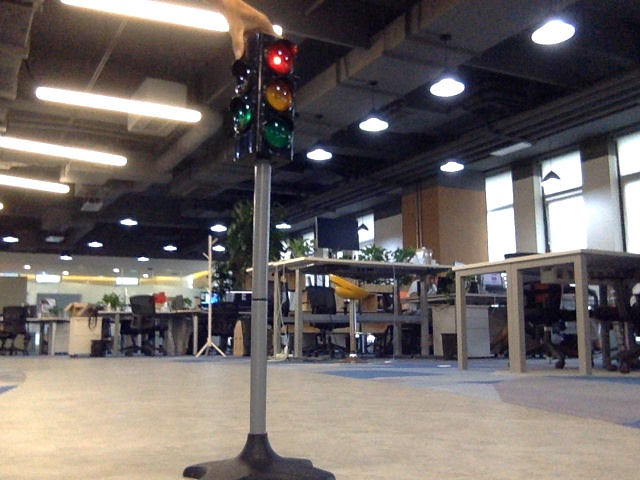red: (258, 44, 291, 147)
